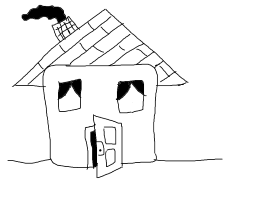door: (83, 114, 124, 178)
open_window: (117, 79, 144, 113), (58, 78, 82, 112)
roof: (13, 9, 188, 88)
smoking_chimney: (16, 1, 79, 42)
wall: (43, 64, 157, 167)
